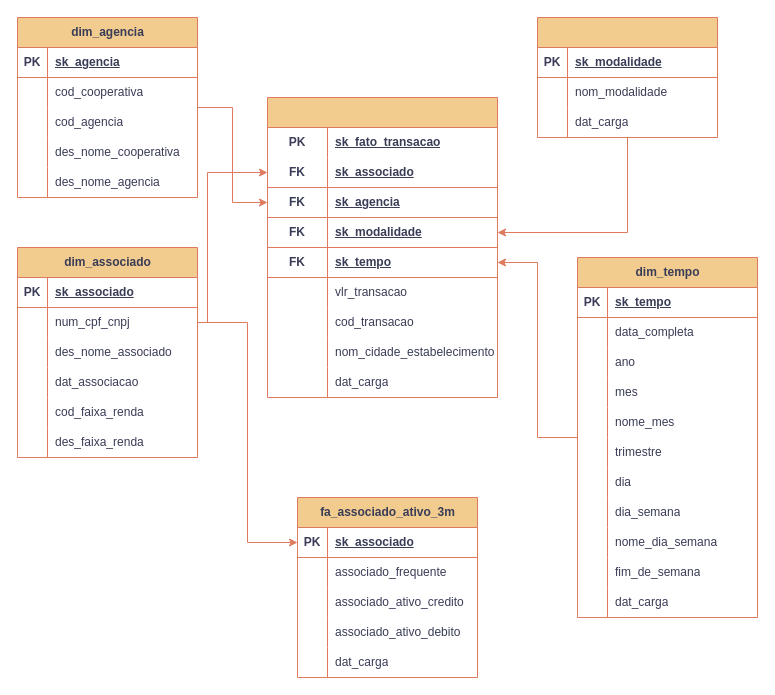
This 775x695 diagram has some shape labels left out. The box of each missing label's shape, as (x1, y1, x2, y2) in pixels:
dim_modalidade: (536, 16, 718, 138)
fato_transacoes: (266, 96, 498, 398)
